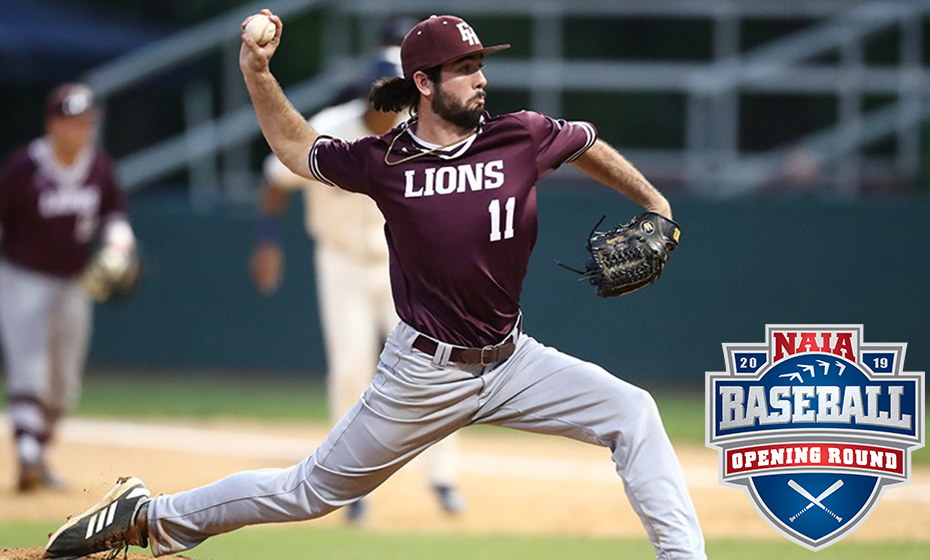Hip: (400, 319, 531, 366)
LeftKnee: (590, 360, 684, 460)
LeftShoulder: (510, 91, 576, 186)
RightAnkle: (19, 479, 172, 556)
RightElbow: (267, 106, 328, 188)
RightKnee: (293, 427, 351, 534)
RightShoulder: (330, 110, 407, 210)
Torso: (395, 156, 507, 285)
